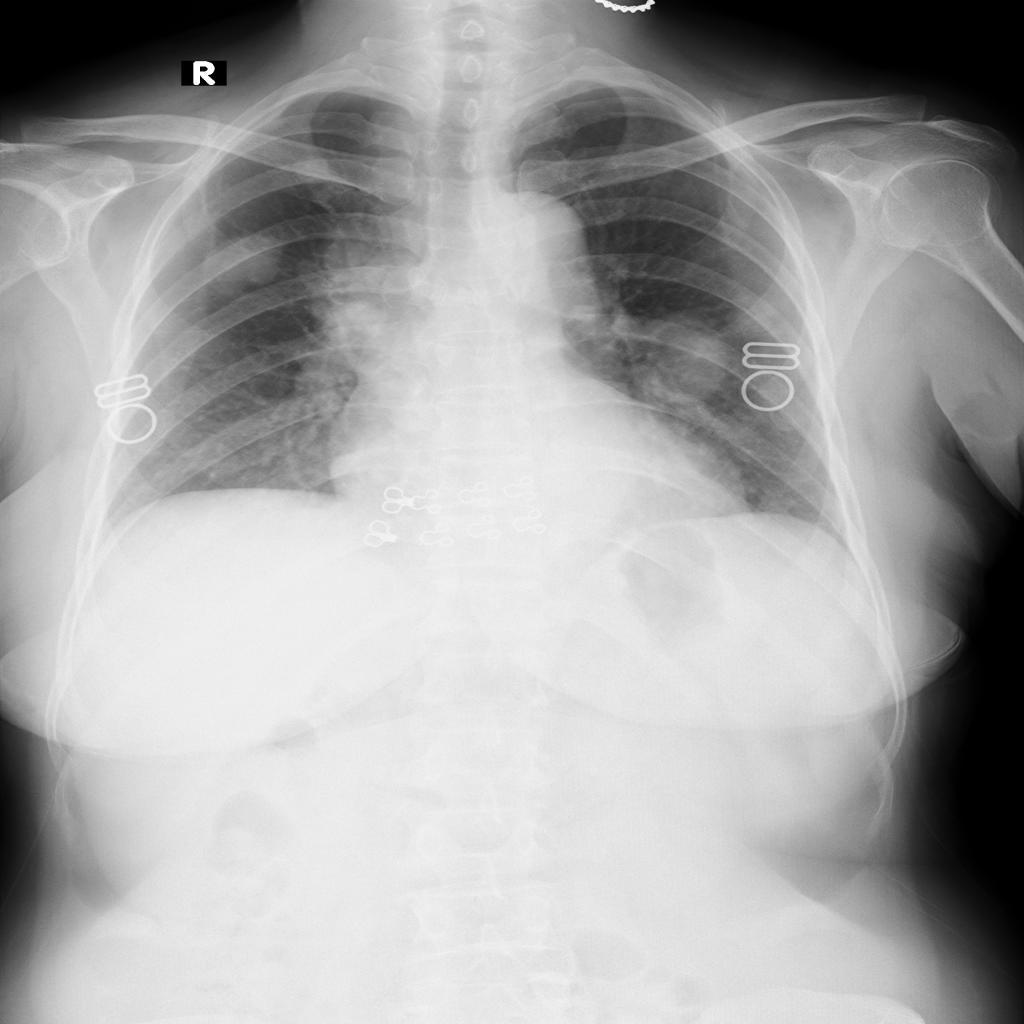Nodule: (646, 326, 728, 403), (204, 231, 286, 299), (322, 303, 384, 350), (325, 242, 370, 284), (727, 305, 775, 337), (295, 155, 334, 185), (770, 404, 806, 433)
